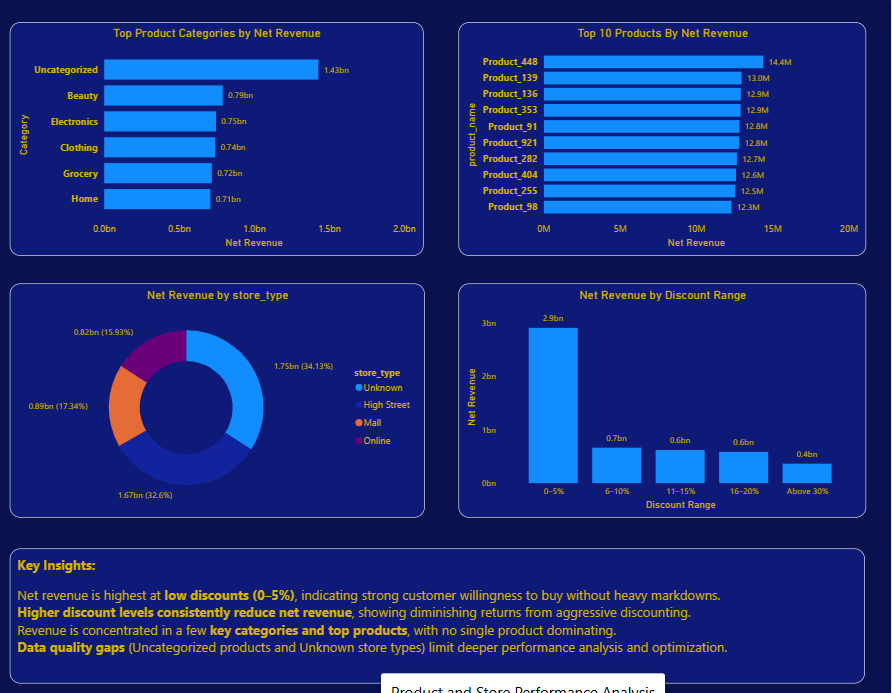

The dashboard page shown, as its layout file describes it:
{"tool":"powerbi","page":{"name":"Product and Store Performance Analysis","canvas":[1280,1000],"ordinal":2},"visuals":[{"type":"clusteredBarChart","title":"Top Product Categories by Net Revenue","fields":{"Category":["dim_products.category"],"Y":["_Measures.Net Revenue"]},"box":[20.3,37.7,591.3,333.3],"z":0},{"type":"clusteredBarChart","title":"Top 10 Products By Net Revenue","fields":{"Category":["dim_products.product_name"],"Y":["_Measures.Net Revenue"]},"box":[660.9,37.7,582.6,333.3],"z":1000},{"type":"donutChart","fields":{"Category":["dim_stores.store_type"],"Y":["_Measures.Net Revenue"]},"box":[18.8,410.1,592.8,334.8],"z":2000},{"type":"columnChart","fields":{"Category":["fact_sales.Discount Range"],"Y":["_Measures.Net Revenue"]},"box":[660.3,411.8,592.6,335.3],"z":3000},{"type":"textbox","box":[20.3,788.4,1221.7,192.8],"z":4000}]}

Visuals, with their boxes in screenshot pixels (x1, y1, x2, y2), scaled from the page's 1280x1000 canvas onto the 892x693 screenshot:
"Top Product Categories by Net Revenue" clusteredBarChart: pyautogui.locateOnScreen(14, 26, 426, 257)
"Top 10 Products By Net Revenue" clusteredBarChart: pyautogui.locateOnScreen(461, 26, 867, 257)
donutChart - dim_stores.store_type x _Measures.Net Revenue: pyautogui.locateOnScreen(13, 284, 426, 516)
columnChart - fact_sales.Discount Range x _Measures.Net Revenue: pyautogui.locateOnScreen(460, 285, 873, 518)
textbox: pyautogui.locateOnScreen(14, 546, 866, 680)
